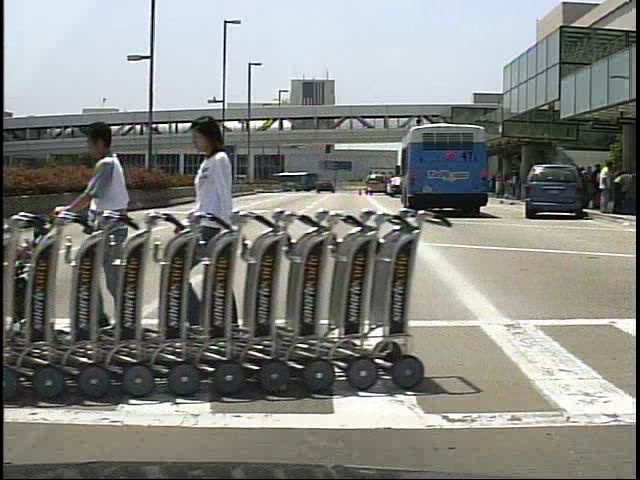person: (178, 112, 263, 350), (66, 120, 146, 339), (597, 160, 618, 216), (589, 161, 605, 214)
